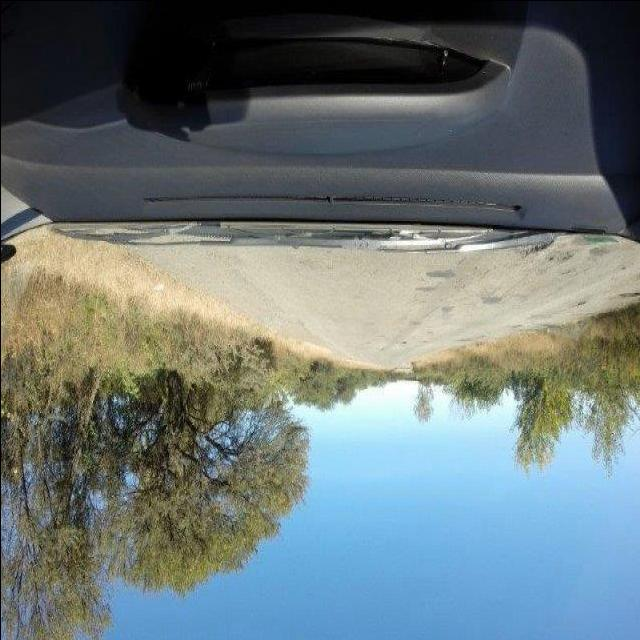lubang: (511, 239, 557, 262), (546, 242, 576, 272), (582, 243, 620, 259), (612, 286, 640, 304), (576, 296, 590, 308)
